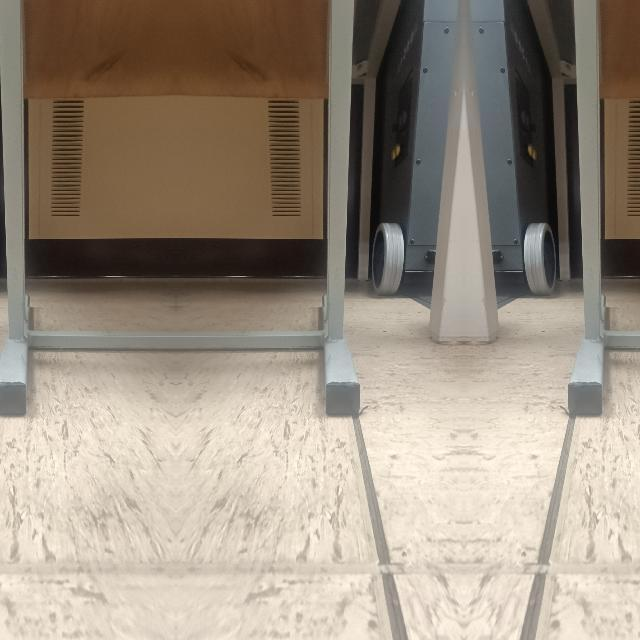obstacle: (316, 181, 362, 417), (565, 181, 611, 417), (0, 181, 34, 417), (31, 326, 172, 354), (178, 326, 318, 354), (608, 326, 640, 353)
